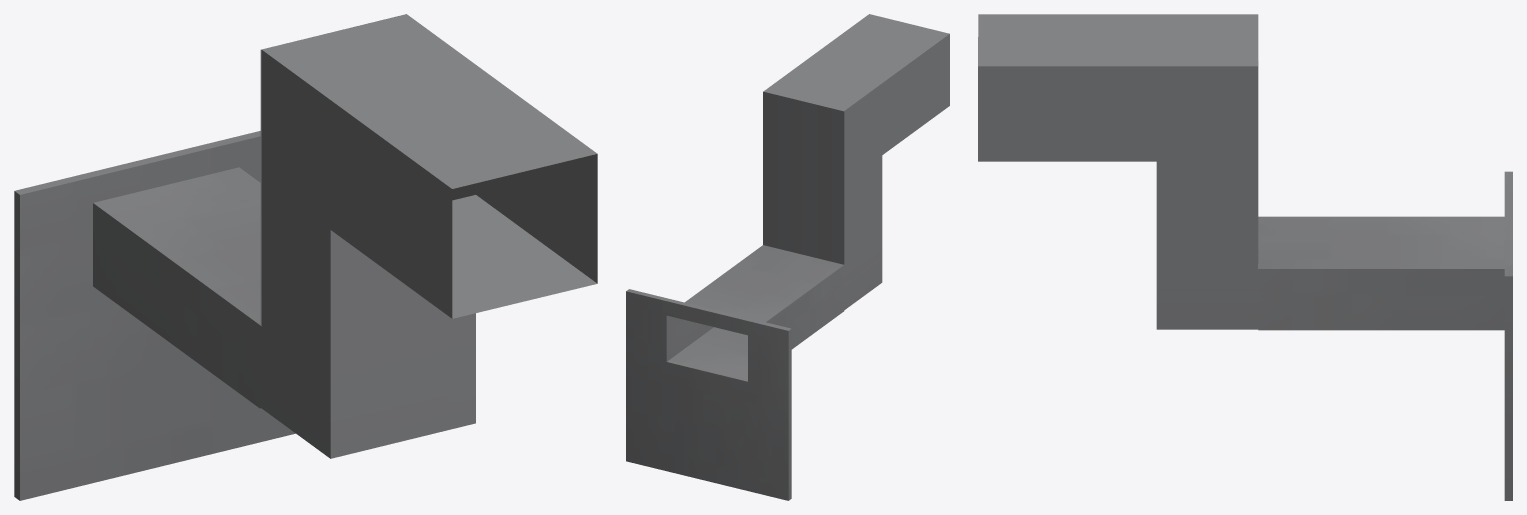
File: pared conducto.fbx
3 views of the same model, side by side, from view 1: azimuth 30°, elevation 25°; view 2: azimuth 150°, elevation 25°; view 3: azimuth 270°, elevation 25° (orthographic). The views are drawn at different scales.
Visible parts, largest first — view 1: Pared con rejilla; view 2: Pared con rejilla; view 3: Pared con rejilla.
Part boxes in pixels (x1,y1,x2,y2): Pared con rejilla: (14, 14, 597, 500); Pared con rejilla: (626, 14, 949, 500); Pared con rejilla: (978, 14, 1512, 500).
Bounding box in the file's own units: 300 × 545 × 647.
Materials: 1 (1 with a texture image).
